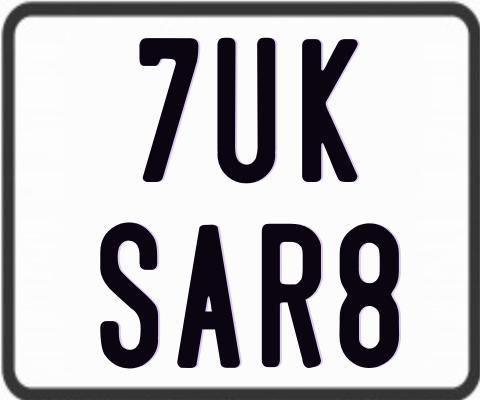7: (137, 36, 197, 185)
8: (338, 222, 403, 373)
A: (175, 223, 243, 366)
K: (301, 37, 362, 183)
R: (260, 221, 323, 370)
S: (100, 219, 161, 370)
U: (214, 35, 272, 186)
